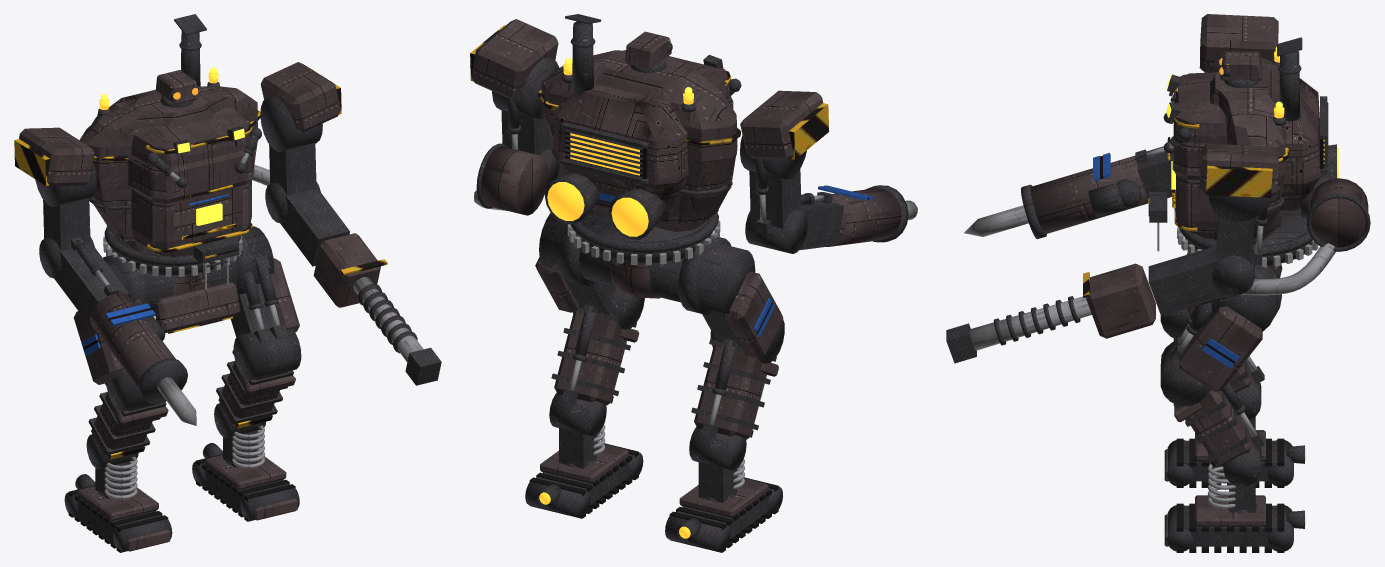
Rendered from mech_foreman.glb.
3 views of the same model, side by side, from view 1: azimuth 30°, elevation 25°; view 2: azimuth 150°, elevation 25°; view 3: azimuth 270°, elevation 25° (orthographic). The views are drawn at different scales.
Parts seen in each view (by area): view 1: cockpit_foreman_armor, shoulder_L_foreman_frame, hand_R_foreman_armor, shoulder_L_foreman_armor, CHEST_upper_1_foreman_armor, hand_L_foreman_armor2, shoulder_R_foreman_frame, pelvis_foreman_armor, forearm_L_foreman_frame, forearm_R_foreman_frame, shoulder_R_foreman_armor, shin_L_foreman_dark (+48 smaller); view 2: cockpit_foreman_armor, cockpit_foreman_armor2, pelvis_foreman_dark, shoulder_L_foreman_armor, cockpit_foreman_glowdim, cockpit_foreman_dark, torso_foreman_armor2, cockpit_foreman_frame, shoulder_R_foreman_armor, shin_L_foreman_armor, shin_R_foreman_armor, shoulder_R_foreman_frame (+33 smaller); view 3: cockpit_foreman_armor, hand_R_foreman_armor, hand_L_foreman_armor2, thigh_L_foreman_armor, cockpit_foreman_armor2, forearm_L_foreman_frame, shoulder_R_foreman_armor, torso_foreman_armor2, shoulder_L_foreman_frame, shin_L_foreman_armor, cockpit_foreman_dark, shoulder_L_foreman_armor (+33 smaller).
Boxes of the visible parts, left/top/right/bottom form: cockpit_foreman_armor: left=79, top=86, right=257, bottom=257; shoulder_L_foreman_frame: left=260, top=96, right=322, bottom=195; hand_R_foreman_armor: left=89, top=293, right=175, bottom=386; shoulder_L_foreman_armor: left=260, top=62, right=340, bottom=132; CHEST_upper_1_foreman_armor: left=171, top=138, right=246, bottom=203; hand_L_foreman_armor2: left=313, top=233, right=380, bottom=307; shoulder_R_foreman_frame: left=35, top=163, right=96, bottom=250; pelvis_foreman_armor: left=153, top=282, right=240, bottom=332; forearm_L_foreman_frame: left=280, top=187, right=349, bottom=266; forearm_R_foreman_frame: left=54, top=237, right=129, bottom=328; shoulder_R_foreman_armor: left=19, top=127, right=94, bottom=186; shin_L_foreman_dark: left=233, top=329, right=301, bottom=380; cockpit_foreman_armor: left=541, top=50, right=737, bottom=231; cockpit_foreman_armor2: left=553, top=83, right=688, bottom=209; pelvis_foreman_dark: left=539, top=213, right=755, bottom=313; shoulder_L_foreman_armor: left=471, top=19, right=558, bottom=100; cockpit_foreman_glowdim: left=547, top=63, right=693, bottom=236; cockpit_foreman_dark: left=545, top=21, right=723, bottom=239; torso_foreman_armor2: left=481, top=146, right=548, bottom=215; cockpit_foreman_frame: left=551, top=14, right=732, bottom=195; shoulder_R_foreman_armor: left=740, top=90, right=823, bottom=160; shin_L_foreman_armor: left=554, top=311, right=627, bottom=405; shin_R_foreman_armor: left=694, top=345, right=766, bottom=439; shoulder_R_foreman_frame: left=740, top=135, right=806, bottom=234; cockpit_foreman_armor: left=1173, top=57, right=1285, bottom=244; hand_R_foreman_armor: left=1030, top=155, right=1148, bottom=234; hand_L_foreman_armor2: left=1086, top=263, right=1155, bottom=338; thigh_L_foreman_armor: left=1178, top=306, right=1262, bottom=391; cockpit_foreman_armor2: left=1278, top=73, right=1320, bottom=210; forearm_L_foreman_frame: left=1148, top=246, right=1235, bottom=316; shoulder_R_foreman_armor: left=1199, top=14, right=1278, bottom=72; torso_foreman_armor2: left=1309, top=178, right=1368, bottom=247; shoulder_L_foreman_frame: left=1208, top=195, right=1267, bottom=265; shin_L_foreman_armor: left=1181, top=390, right=1251, bottom=465; cockpit_foreman_dark: left=1167, top=51, right=1336, bottom=217; shoulder_L_foreman_armor: left=1199, top=143, right=1278, bottom=196.
Bounding box in the file's own units: 8.07 × 12.07 × 9.58.
Materials: 12 (7 with a texture image).
